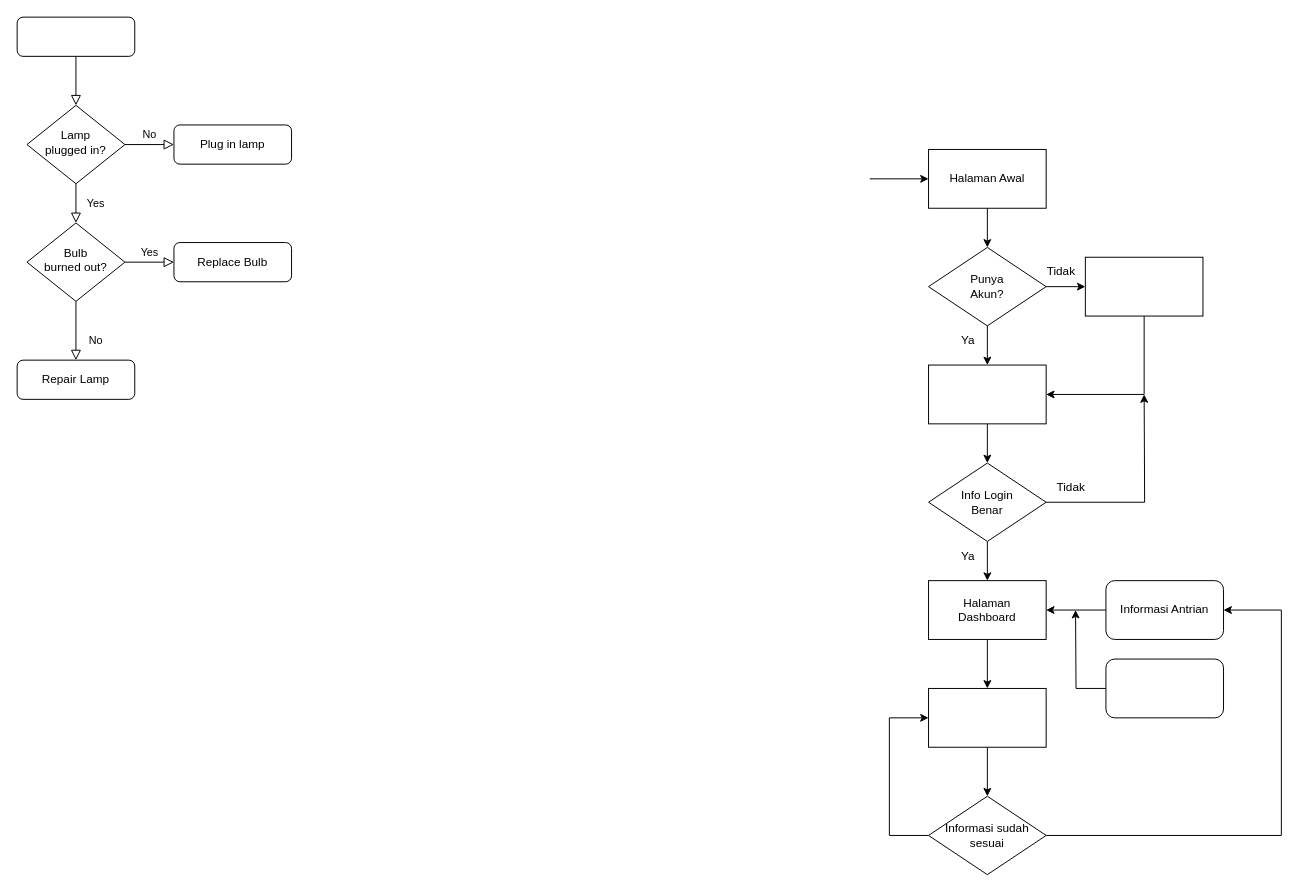
This 1306x892 diagram has some shape labels left out. The centre of each missing label's shape, as x and y in pixels:
"Halaman Login" belongs at pixel 987 394.
"Halaman Mendaftar" belongs at pixel 987 717.
"Halaman Register" belongs at pixel 1143 286.
"Jadwal Dokter" belongs at pixel 1164 688.
"Lamp doesn't work" belongs at pixel 75 36.
